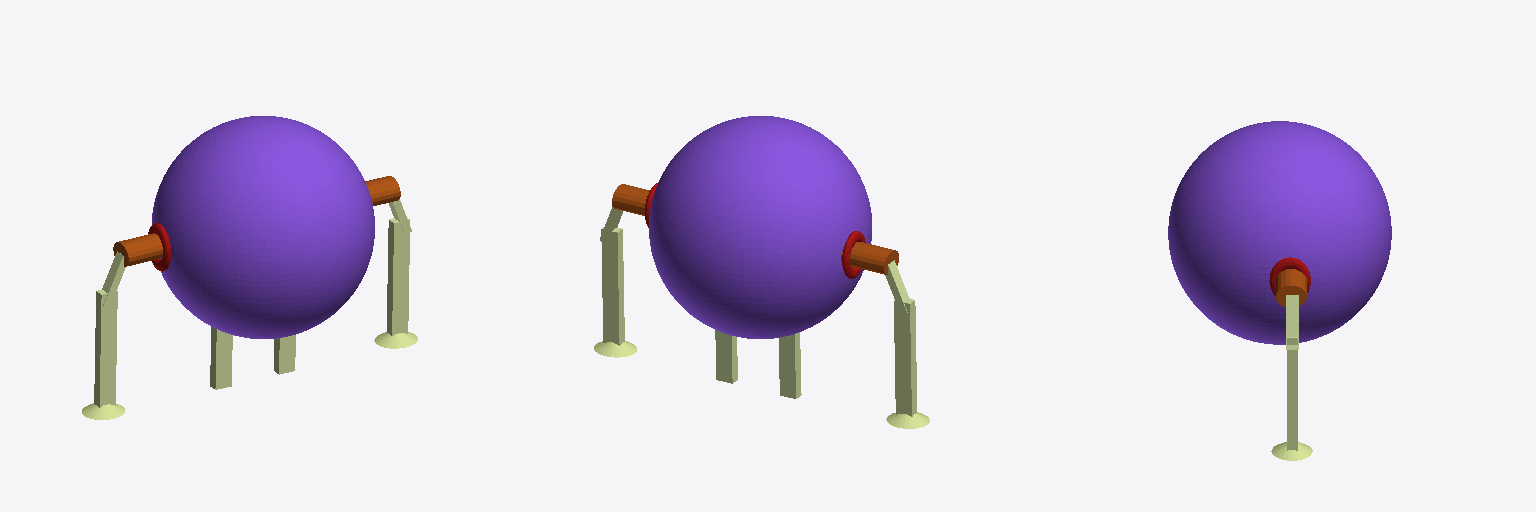
File: Robot.obj
The picture shows the model from 3 angles: view 1: azimuth 30°, elevation 25°; view 2: azimuth 150°, elevation 25°; view 3: azimuth 270°, elevation 25°; orthographic projection.
Visible parts, largest first — view 1: Sphere001, Box004, Box003, Box006, Cylinder001, Box007, Cylinder002, Box001, Cone002, Cone001, Torus001; view 2: Sphere001, Box004, Box003, Box006, Cylinder001, Box007, Cylinder002, Box001, Cone001, Cone002, Torus001; view 3: Sphere001, Box004, Cylinder002, Box002, Torus002.
Boxes of the visible parts, x1=… form: Sphere001: x1=152, y1=116, x2=374, y2=338; Box004: x1=387, y1=218, x2=409, y2=335; Box003: x1=94, y1=290, x2=117, y2=407; Box006: x1=210, y1=327, x2=232, y2=389; Cylinder001: x1=113, y1=233, x2=162, y2=266; Box007: x1=274, y1=335, x2=295, y2=374; Cylinder002: x1=365, y1=176, x2=400, y2=205; Box001: x1=102, y1=251, x2=125, y2=307; Cone002: x1=374, y1=332, x2=417, y2=348; Cone001: x1=82, y1=403, x2=124, y2=419; Torus001: x1=148, y1=223, x2=170, y2=271; Sphere001: x1=649, y1=116, x2=871, y2=338; Box004: x1=601, y1=227, x2=624, y2=345; Box003: x1=894, y1=299, x2=916, y2=416; Box006: x1=779, y1=332, x2=801, y2=398; Cylinder001: x1=841, y1=242, x2=898, y2=274; Box007: x1=715, y1=330, x2=737, y2=383; Cylinder002: x1=612, y1=184, x2=649, y2=215; Box001: x1=885, y1=260, x2=909, y2=316; Cone001: x1=886, y1=412, x2=929, y2=428; Cone002: x1=594, y1=341, x2=636, y2=357; Torus001: x1=842, y1=231, x2=865, y2=278; Sphere001: x1=1168, y1=121, x2=1391, y2=344; Box004: x1=1287, y1=337, x2=1297, y2=450; Cylinder002: x1=1276, y1=269, x2=1306, y2=306; Box002: x1=1286, y1=295, x2=1298, y2=349; Torus002: x1=1269, y1=257, x2=1310, y2=296.
Bounding box in the file's own units: 79.31 × 58.54 × 46.34.